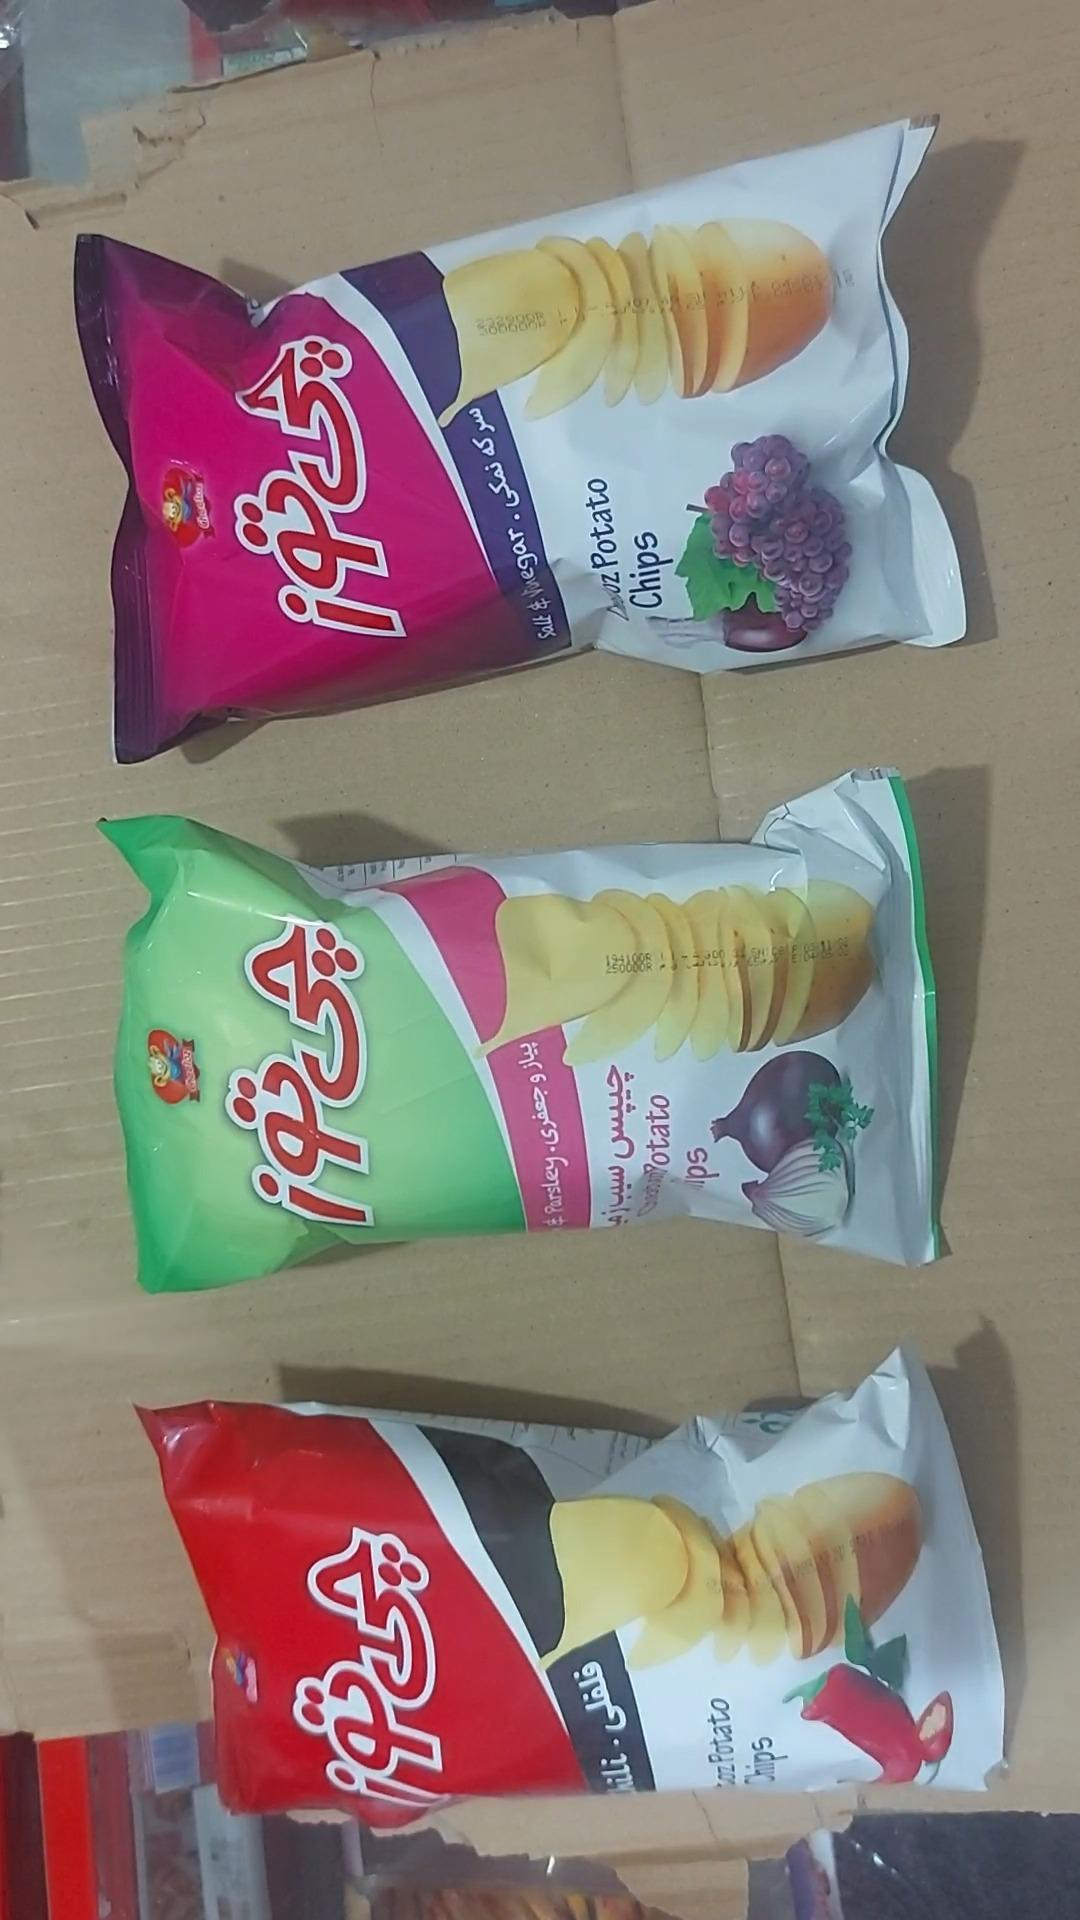Cheetoz chili chips: (135, 1346, 1005, 1837)
Cheetoz onion and parsley chips: (94, 767, 949, 1298)
Cheetoz vinegar chips: (73, 117, 969, 766)
